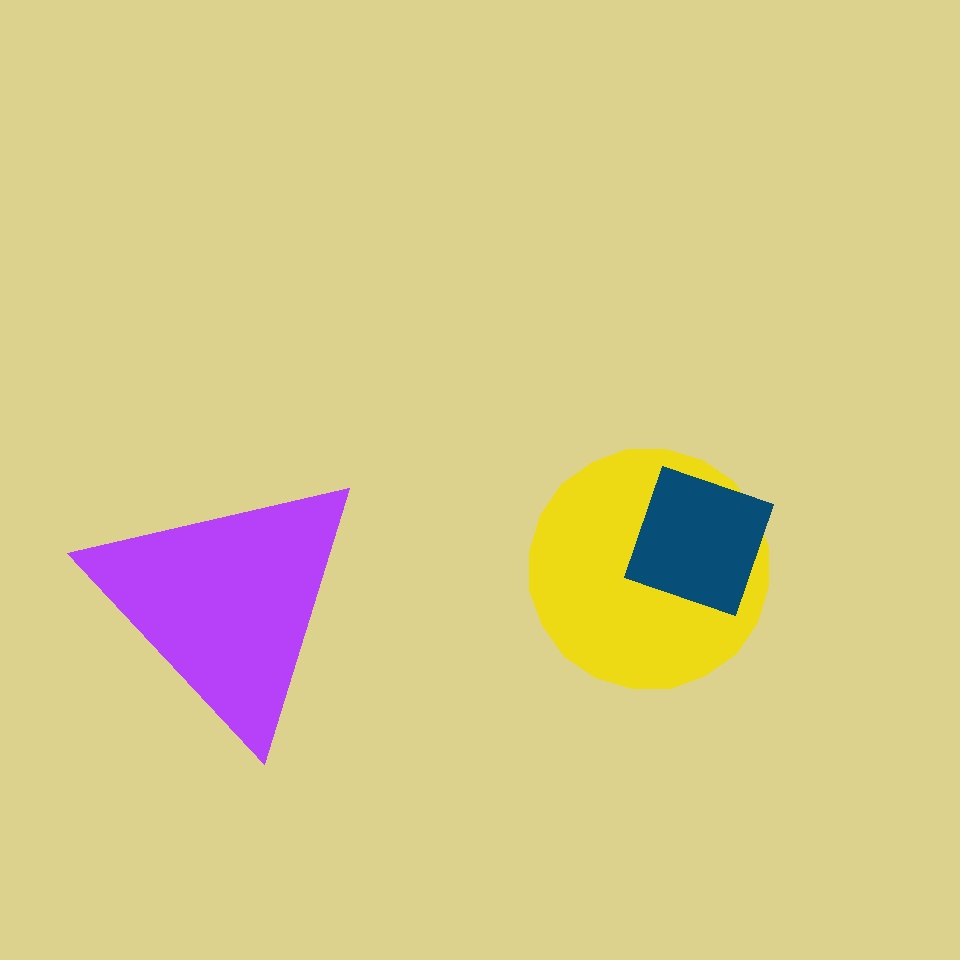circle: (310, 287, 638, 585), (86, 464, 368, 740), (165, 345, 411, 619)
square: (640, 738, 834, 932), (624, 466, 774, 616), (487, 784, 604, 901)
triangle: (530, 449, 768, 688)
